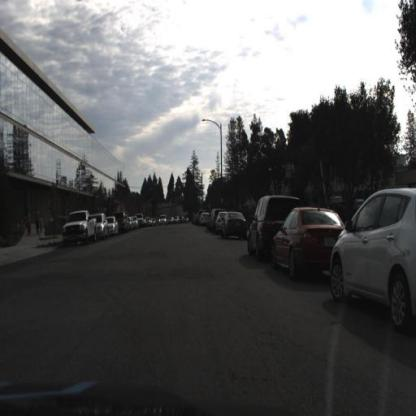car: (329, 190, 416, 325), (269, 206, 350, 279), (247, 194, 272, 264), (59, 207, 100, 249), (221, 209, 250, 241), (93, 210, 109, 243), (113, 210, 130, 237), (108, 215, 120, 238), (157, 213, 169, 229)
pedestrian: (35, 209, 41, 236), (27, 209, 32, 237), (40, 216, 44, 234)
